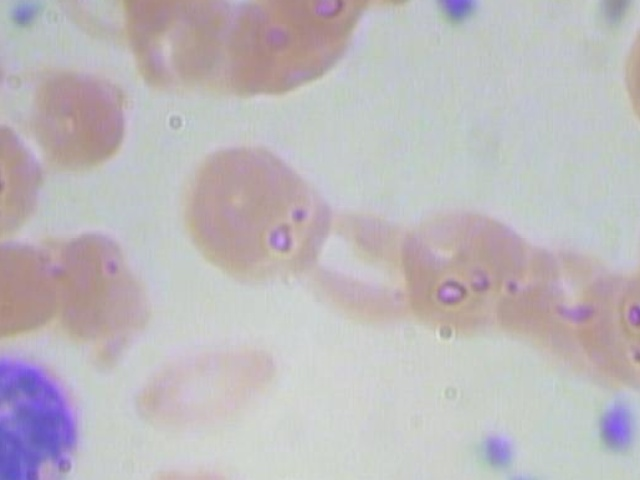Platelets: (579, 389, 640, 466), (476, 429, 521, 476), (424, 0, 489, 25), (3, 0, 44, 35), (491, 466, 557, 480)
RBC: (184, 144, 341, 292), (380, 200, 536, 335), (46, 222, 160, 380), (287, 195, 432, 319), (125, 330, 285, 438), (31, 65, 140, 174), (0, 231, 64, 355), (0, 111, 51, 243), (114, 449, 265, 480)
WBC: (0, 337, 87, 480)
